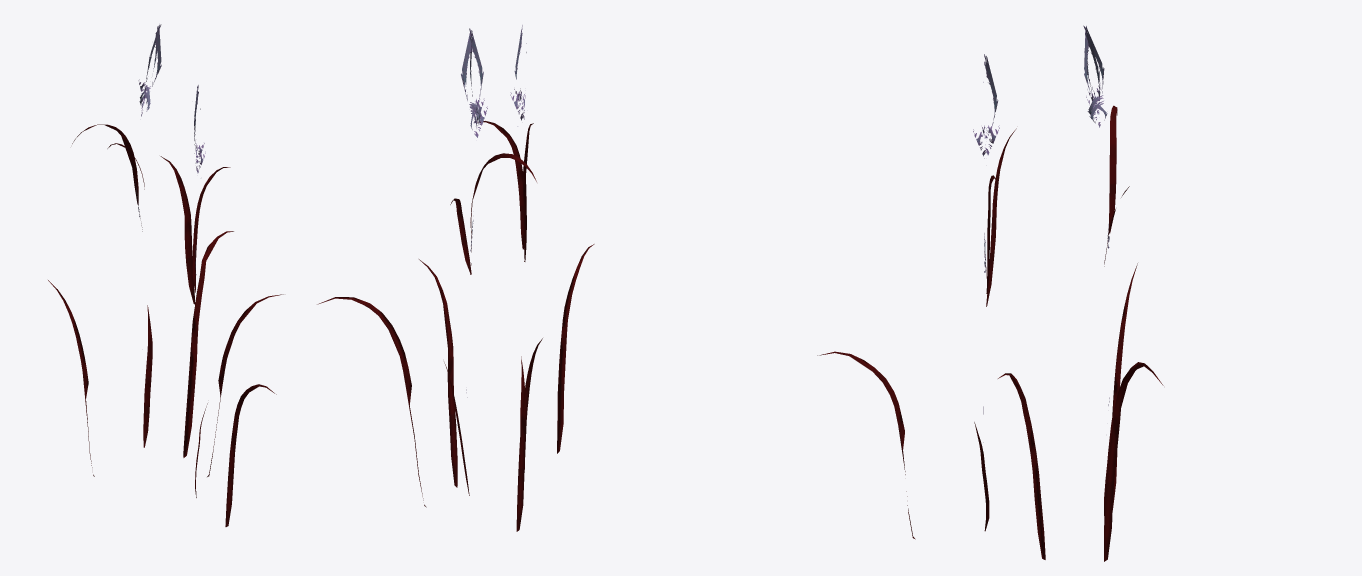
The picture shows the model from 3 angles, left to right: view 1: azimuth 30°, elevation 25°; view 2: azimuth 150°, elevation 25°; view 3: azimuth 270°, elevation 25°; orthographic projection. The views are drawn at different scales.
Parts seen in each view (by area): view 1: SM_GF_LongSeededGrass_01_LOD0; view 2: SM_GF_LongSeededGrass_01_LOD0; view 3: SM_GF_LongSeededGrass_01_LOD0.
Boxes of the visible parts, left/top/right/bottom form: SM_GF_LongSeededGrass_01_LOD0: left=48, top=24, right=283, bottom=526; SM_GF_LongSeededGrass_01_LOD0: left=317, top=25, right=594, bottom=531; SM_GF_LongSeededGrass_01_LOD0: left=817, top=25, right=1163, bottom=561.
Bounding box in the file's own units: 1 × 1.33 × 1.21.
1 material, 1 textured.
